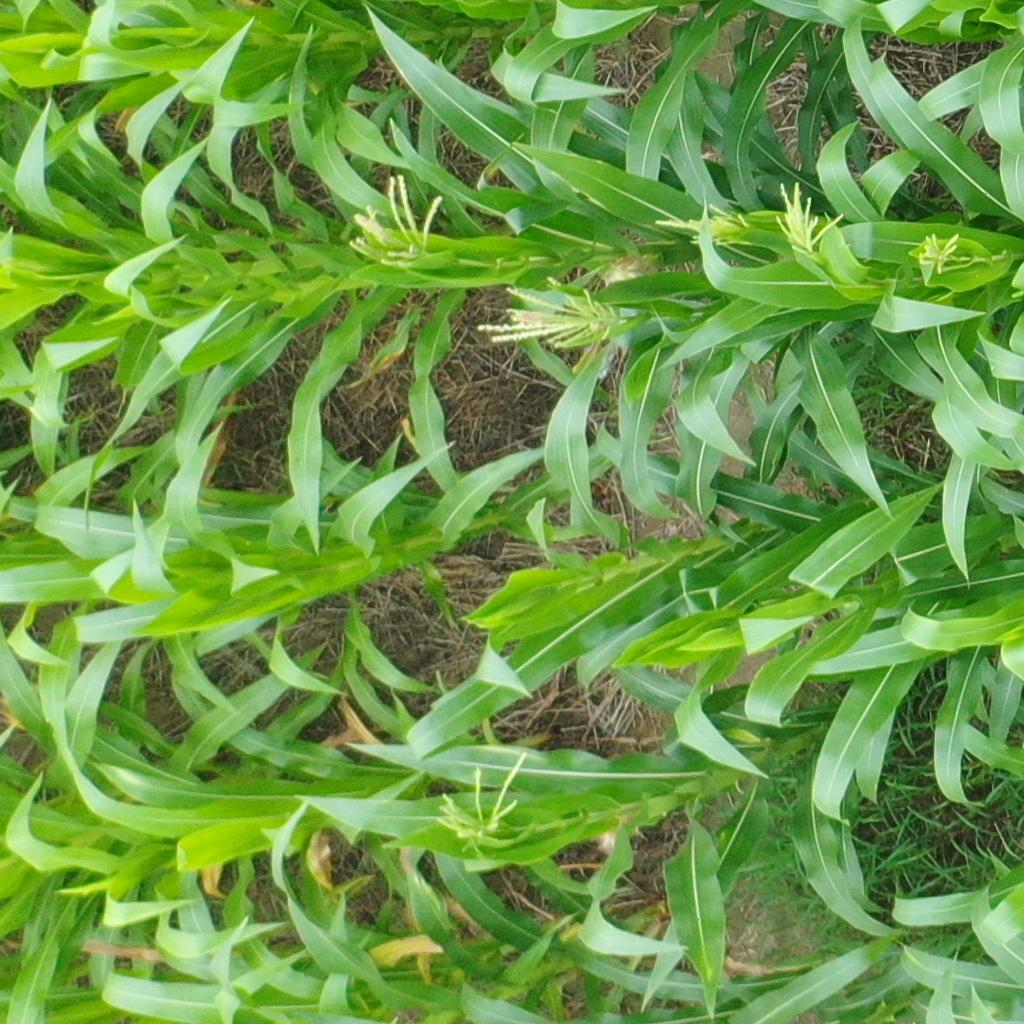Tassel: (479, 272, 626, 354), (349, 171, 448, 267), (433, 749, 530, 838), (656, 195, 753, 253), (775, 178, 844, 254), (913, 229, 965, 272)
